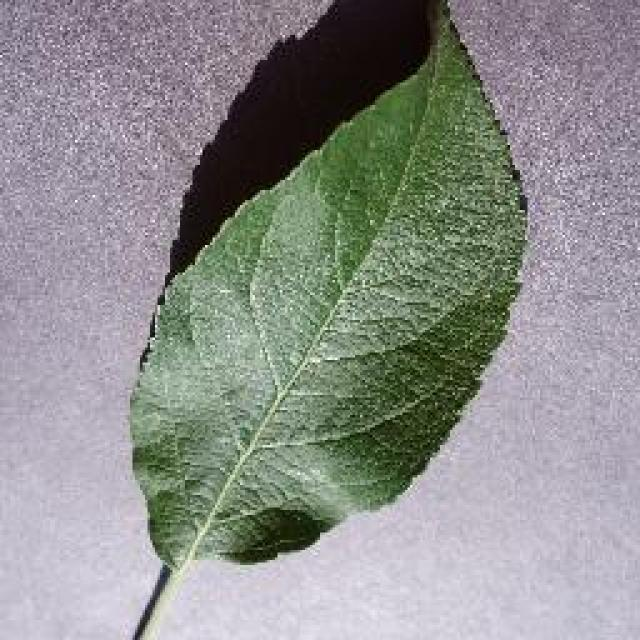App_healthy: (142, 137, 522, 524)
